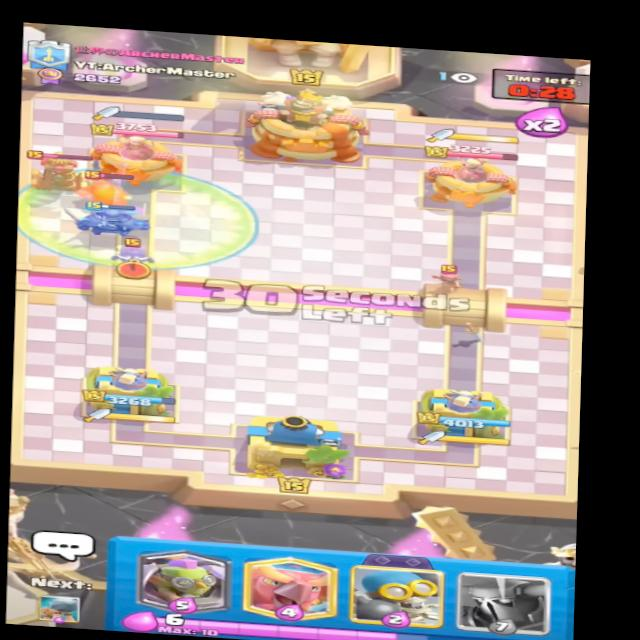Archer: (427, 265, 465, 290)
Espirit: (113, 237, 158, 269)
Knight: (80, 175, 136, 210)
Tesla: (20, 146, 100, 203)
